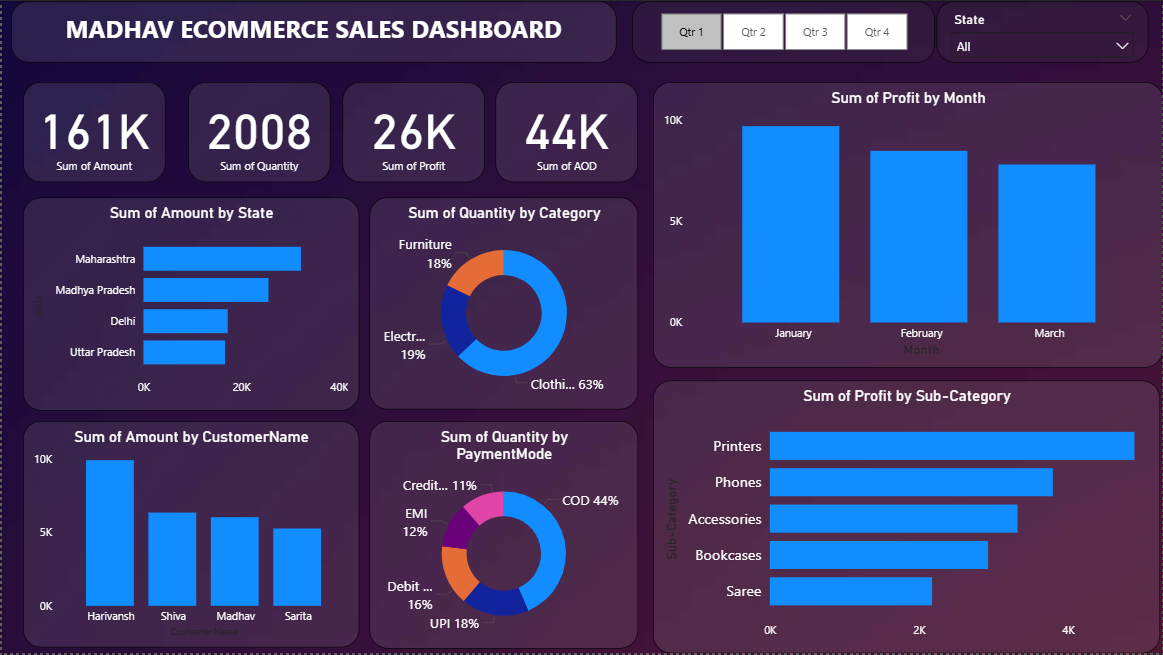

This screenshot's page, from the dashboard's own definition file:
{"tool":"powerbi","page":{"name":"Page 1","canvas":[1280,720],"ordinal":0},"visuals":[{"type":"textbox","box":[9.4,0,669,68],"z":0},{"type":"columnChart","fields":{"Category":["Orders.Order Date.Variation.Date Hierarchy.Month"],"Y":["Details.Profit"]},"box":[718.1,88.8,563.2,315.6],"z":1000},{"type":"barChart","fields":{"Category":["Details.Sub-Category"],"Y":["Details.Profit"]},"box":[718.9,419.1,559.9,301.5],"z":2000},{"type":"donutChart","fields":{"Category":["Details.Category"],"Y":["Details.Quantity"]},"box":[406.3,217.3,296.7,234.3],"z":3000},{"type":"donutChart","fields":{"Y":["Details.Quantity"],"Category":["Details.PaymentMode"]},"box":[406.3,463,296.7,251.3],"z":4000},{"type":"card","fields":{"Values":["Details.Amount"]},"box":[23.2,89.4,157.4,111],"z":5000},{"type":"card","fields":{"Values":["Details.Quantity"]},"box":[205.4,89.4,157.4,111],"z":6000},{"type":"card","fields":{"Values":["Details.Profit"]},"box":[376,89.4,157.4,111],"z":7000},{"type":"card","fields":{"Values":["Details.AOD"]},"box":[545,89.4,157.4,111],"z":8000},{"type":"barChart","fields":{"Category":["Orders.State"],"Y":["Details.Amount"]},"box":[23.2,217,371.1,235.2],"z":9000},{"type":"columnChart","fields":{"Category":["Orders.CustomerName"],"Y":["Details.Amount"]},"box":[23.2,463.8,371.1,250.1],"z":10000},{"type":"slicer","fields":{"Values":["Orders.Order Date.Variation.Date Hierarchy.Quarter"]},"box":[695.4,0,334.5,68],"z":11000},{"type":"slicer","fields":{"Values":["Orders.State"]},"box":[1031.8,0,234.3,68],"z":12000}]}

Visuals, with their boxes in screenshot pixels (x1, y1, x2, y2), scaled from the page's 1280x720 canvas onto the 1163x655 screenshot:
textbox: region(9, 0, 616, 62)
columnChart - Orders.Order Date.Variation.Date Hierarchy.Month x Details.Profit: region(652, 81, 1162, 368)
barChart - Details.Sub-Category x Details.Profit: region(653, 381, 1162, 654)
donutChart - Details.Category x Details.Quantity: region(369, 198, 639, 411)
donutChart - Details.Quantity x Details.PaymentMode: region(369, 421, 639, 650)
card - Details.Amount: region(21, 81, 164, 182)
card - Details.Quantity: region(187, 81, 330, 182)
card - Details.Profit: region(342, 81, 485, 182)
card - Details.AOD: region(495, 81, 638, 182)
barChart - Orders.State x Details.Amount: region(21, 197, 358, 411)
columnChart - Orders.CustomerName x Details.Amount: region(21, 422, 358, 649)
slicer - Orders.Order Date.Variation.Date Hierarchy.Quarter: region(632, 0, 936, 62)
slicer - Orders.State: region(937, 0, 1150, 62)
